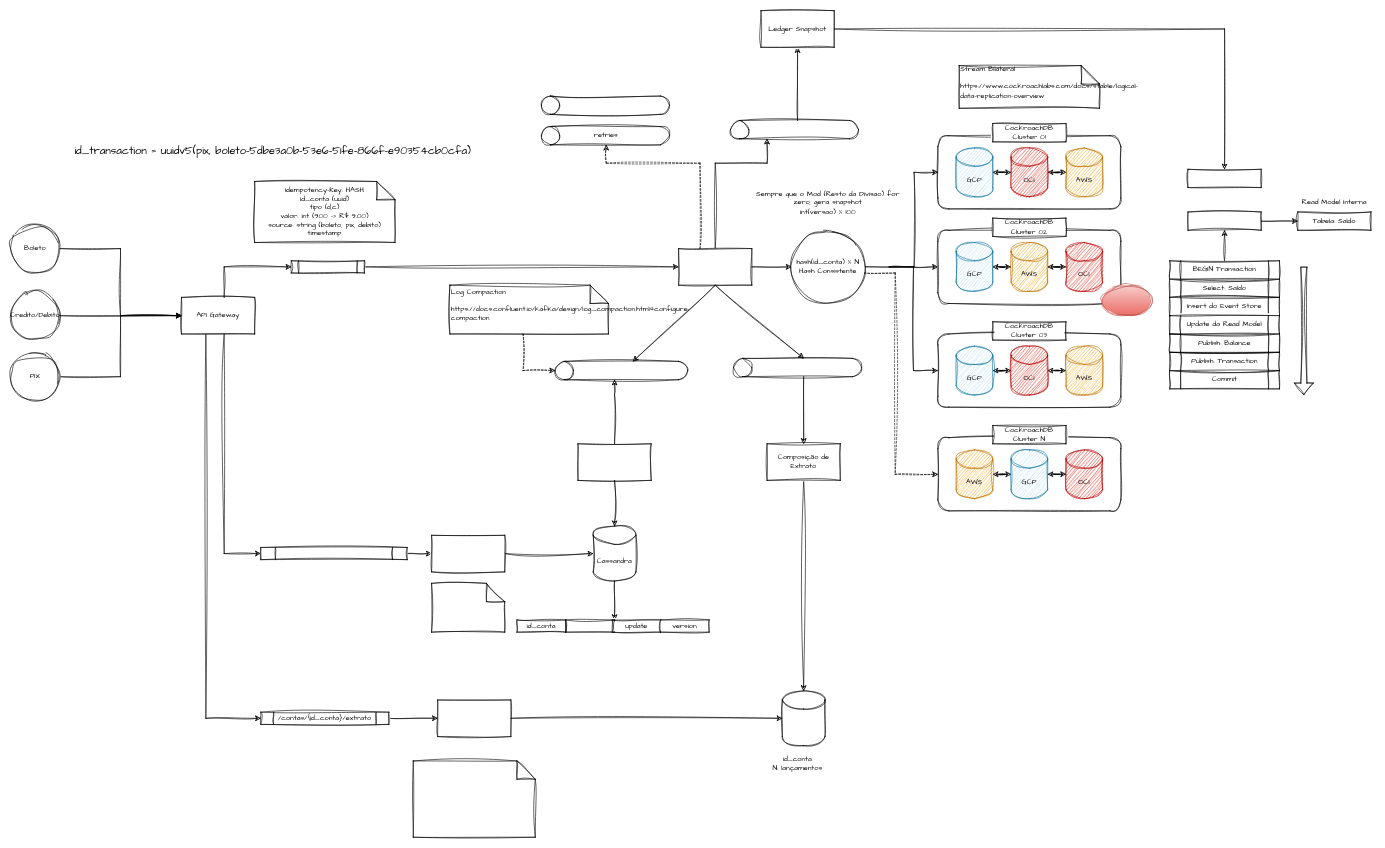
This 1385x848 diagram has some shape labels left out. Here are the shapes that lost their labels. From the top down, the centre of each, then its label:
point (605, 104): rehydration(id_conta)
point (794, 129): snapshot(id_conta)
point (1224, 178): Snapshots
point (1224, 220): Event Store: Transações
point (327, 266): /transactions
point (715, 266): Ledger Recepção
point (1126, 300): Falha
point (621, 370): ledger_saldo_atualizado
point (797, 367): ledger_transacao_registrada
point (614, 461): Composição de Saldo
point (333, 553): [GET] /contas/{id_conta}/saldo
point (468, 553): Consulta Saldo
point (468, 607): { "saldo": double timestamp: string }
point (590, 625): balance
point (474, 718): Consulta Extrato
point (803, 718): Elastic Search
point (474, 798): [ { id_transacao valor timestamp descricao } ]
